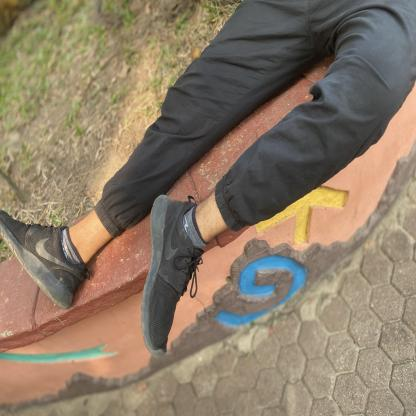leg: (130, 178, 342, 362), (0, 151, 146, 305)
